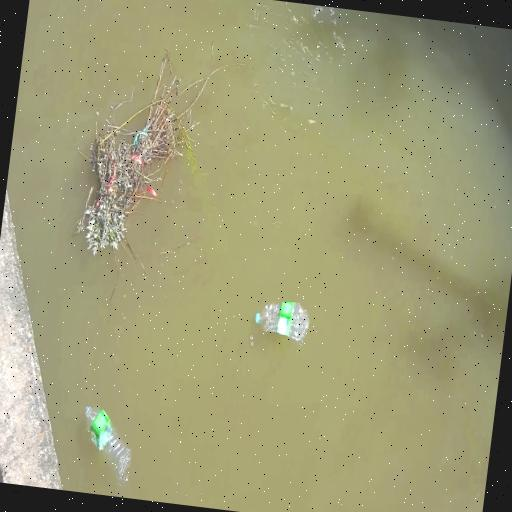plastic: (84, 407, 130, 481), (255, 301, 308, 342), (254, 313, 259, 324)
twig: (74, 50, 241, 256)
